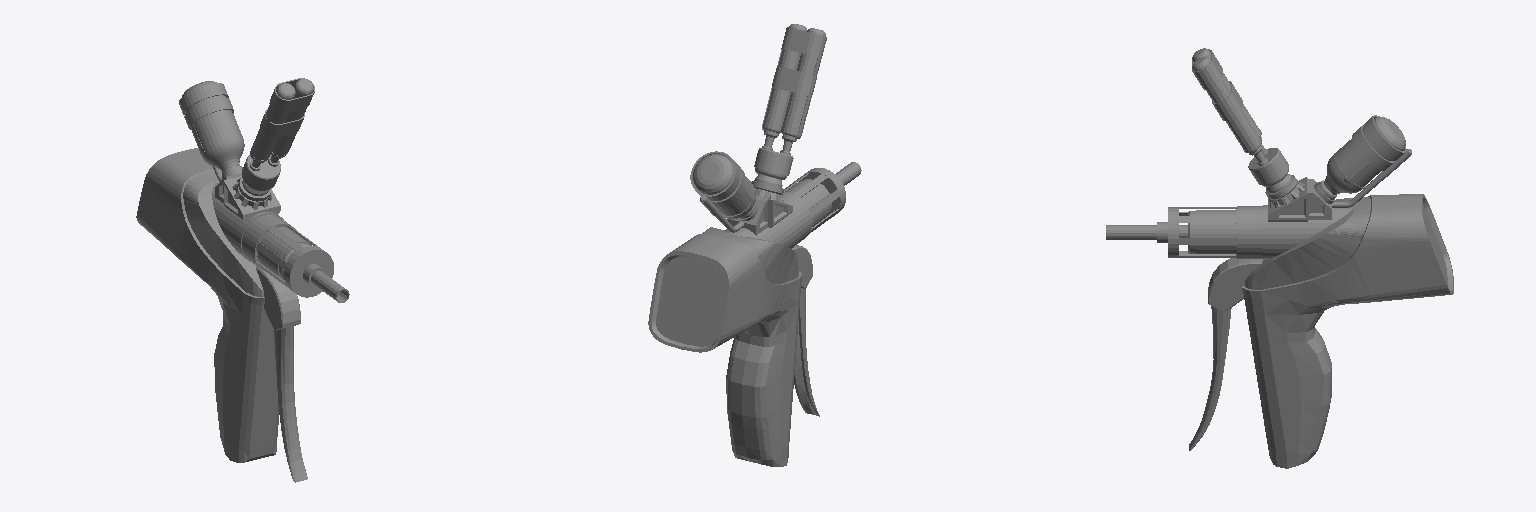
File: Healer.obj
3 views of the same model, side by side, from view 1: azimuth 30°, elevation 25°; view 2: azimuth 150°, elevation 25°; view 3: azimuth 270°, elevation 25° (orthographic).
Visible parts, largest first — view 1: Wep_1stP_Healer_Rig; view 2: Wep_1stP_Healer_Rig; view 3: Wep_1stP_Healer_Rig.
Part boxes in pixels (x1,y1,x2,y2): Wep_1stP_Healer_Rig: (136,78,349,482); Wep_1stP_Healer_Rig: (648,24,861,466); Wep_1stP_Healer_Rig: (1106,48,1453,468).
Bounding box in the file's own units: 5.33 × 28.36 × 22.14.